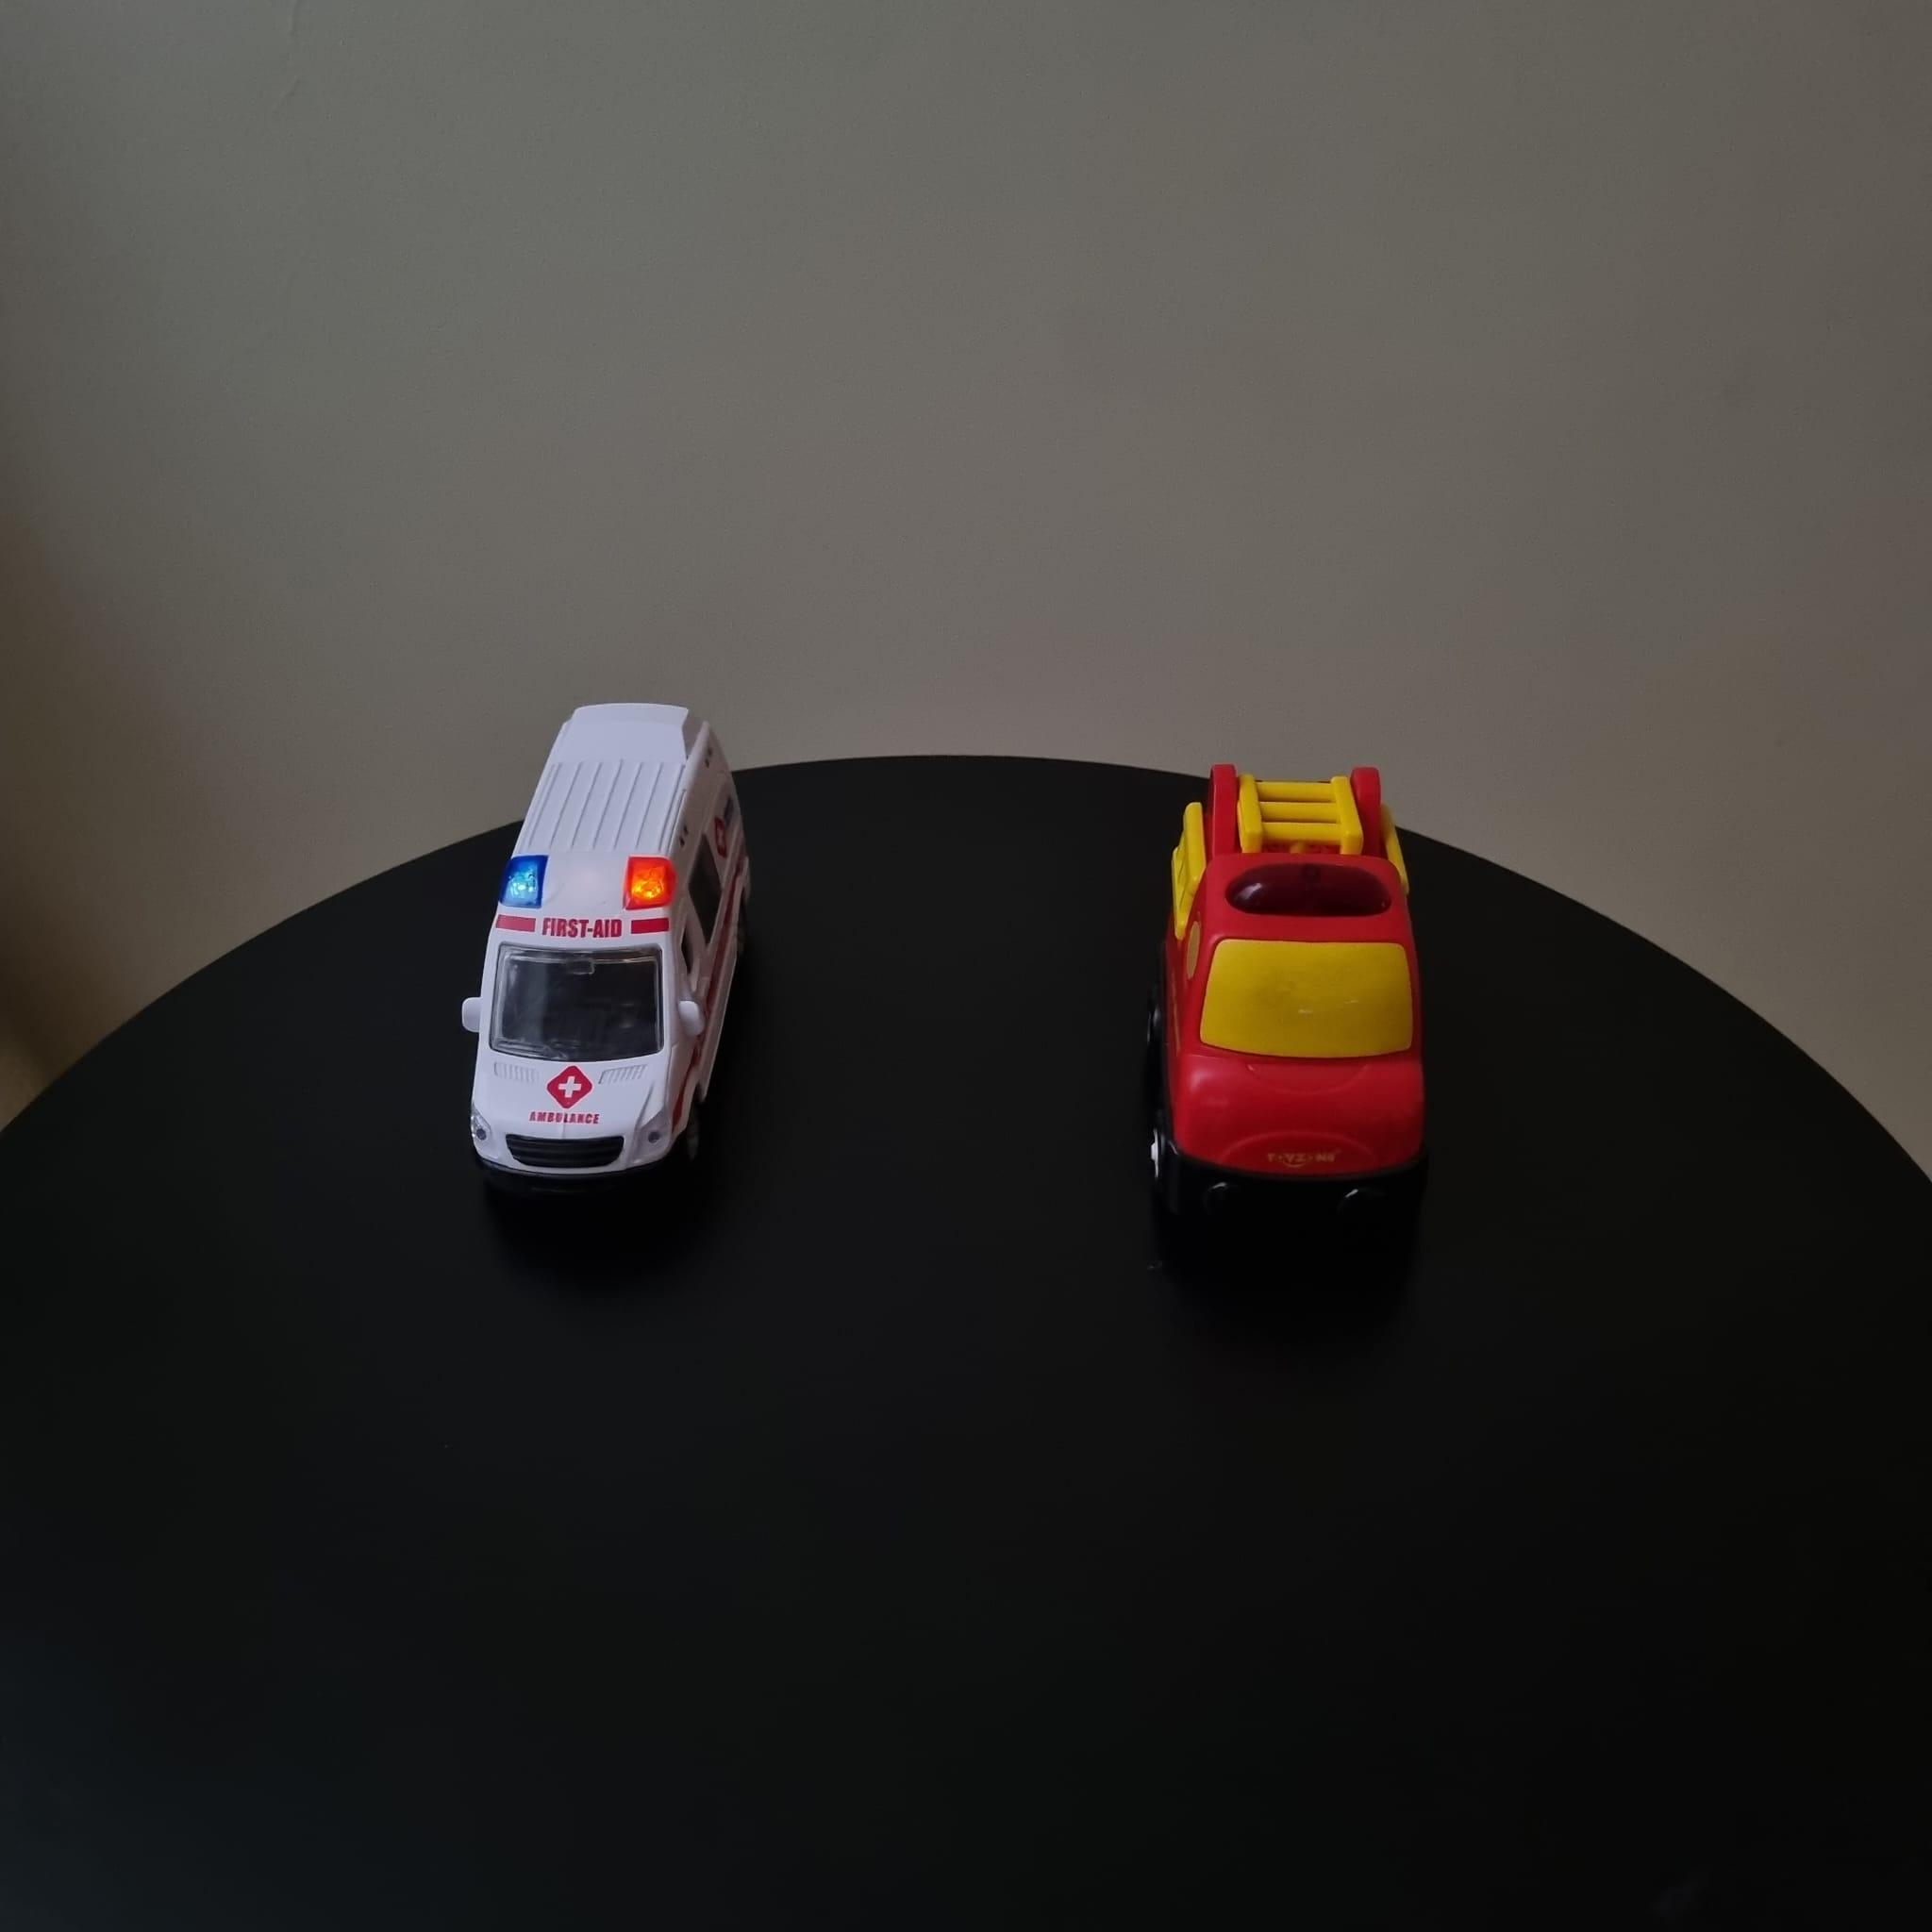ambulance_on: (458, 708, 754, 1221)
firetruck_off: (1146, 764, 1422, 1251)
